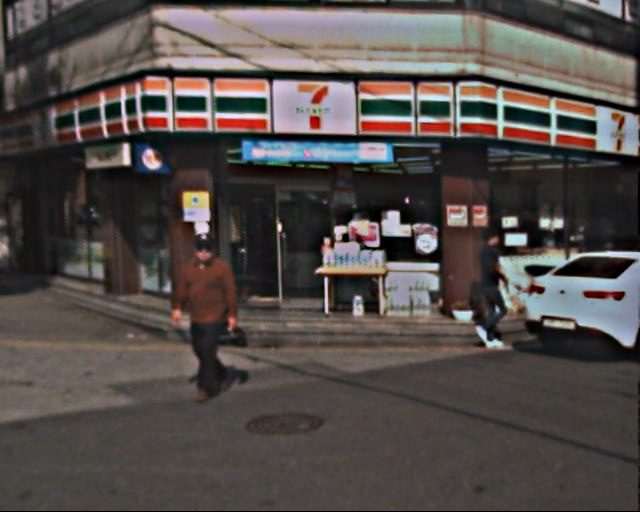person: (174, 230, 249, 398), (466, 227, 524, 353)
